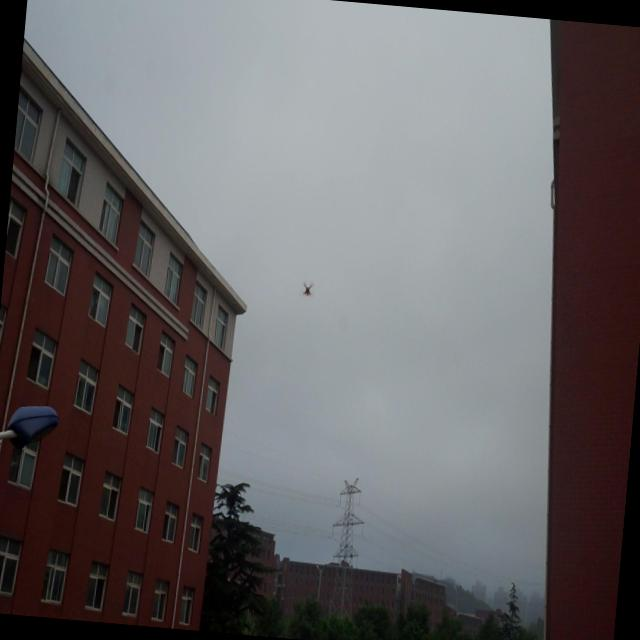drone: (298, 277, 316, 301)
